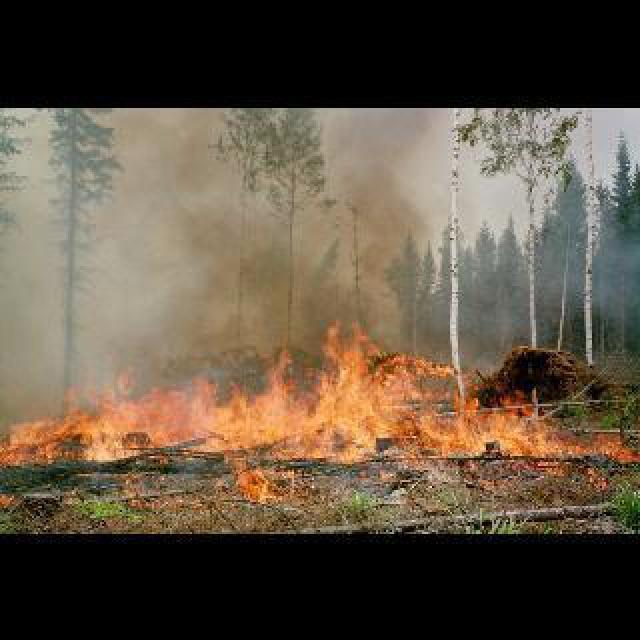smoke: (10, 326, 628, 500)
